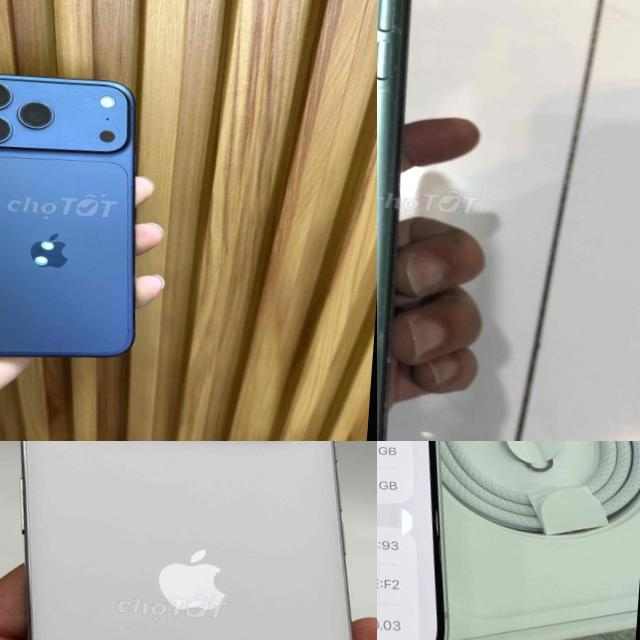gen_11: (377, 0, 410, 441)
gen_17: (0, 441, 377, 640), (0, 62, 172, 366), (377, 441, 497, 640)
